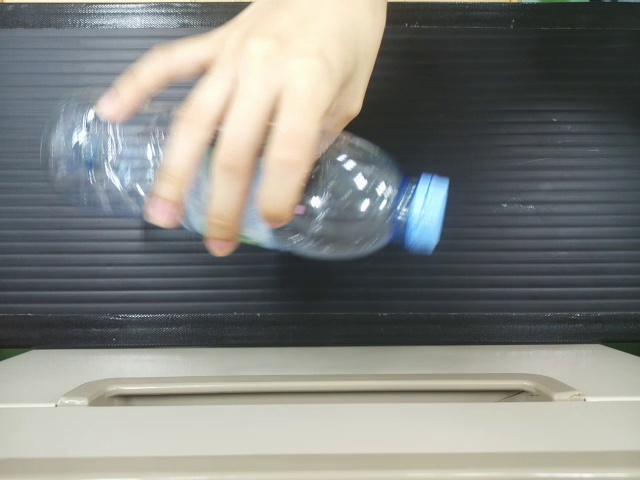bottle: (297, 116, 447, 264), (46, 91, 163, 222)
